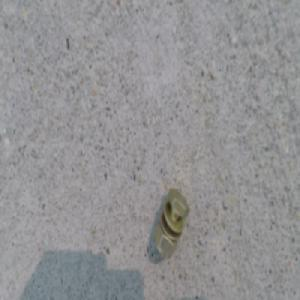BoltNutSet: (147, 185, 182, 257)
